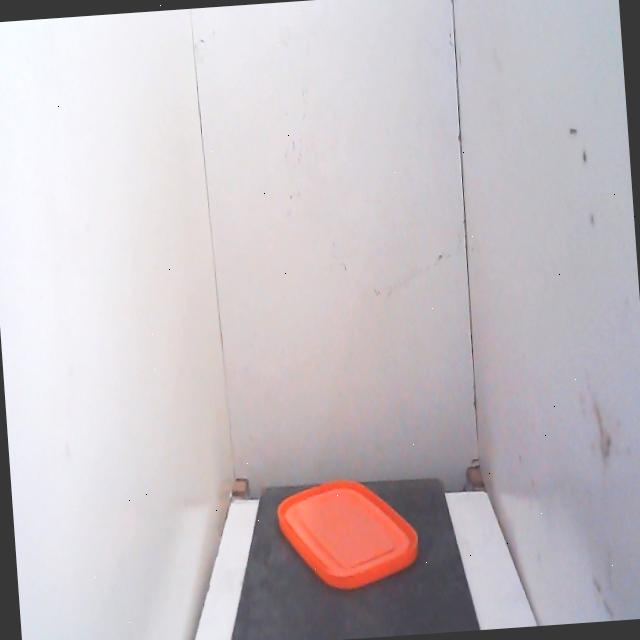plastico: (263, 452, 432, 601)
